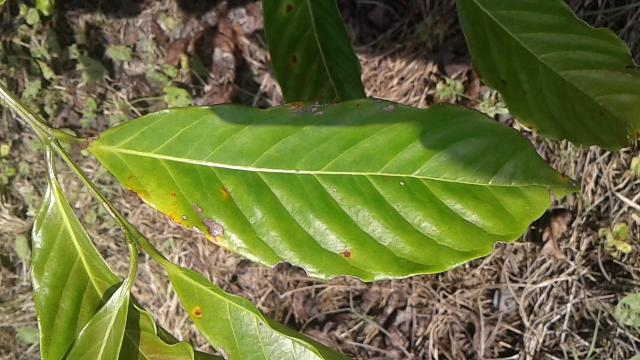rust_level_1: (79, 95, 588, 287)
